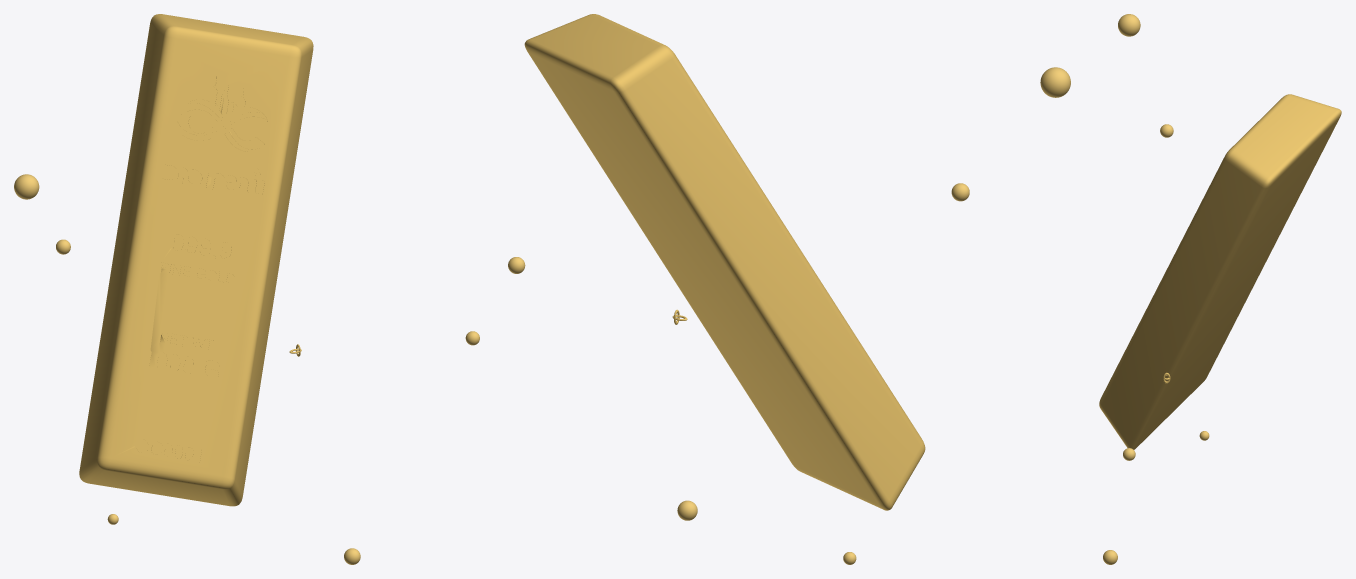
The model's file is Jewel Landing Bar.glb.
3 renders of one model, left to right at view 1: azimuth 30°, elevation 25°; view 2: azimuth 150°, elevation 25°; view 3: azimuth 270°, elevation 25°, orthographic. The views are drawn at different scales.
Parts seen in each view (by area): view 1: Box002; view 2: Box002, Sphere_0.001; view 3: Box002, Sphere_0.001.
Boxes of the visible parts, x1,y1,x2,y2 form: Box002: [79, 14, 313, 506]; Box002: [524, 14, 925, 510]; Sphere_0.001: [1040, 67, 1070, 97]; Box002: [1099, 94, 1341, 449]; Sphere_0.001: [1118, 14, 1140, 36].
Bounding box in the file's own units: 0.2552 × 0.2547 × 0.1288.
